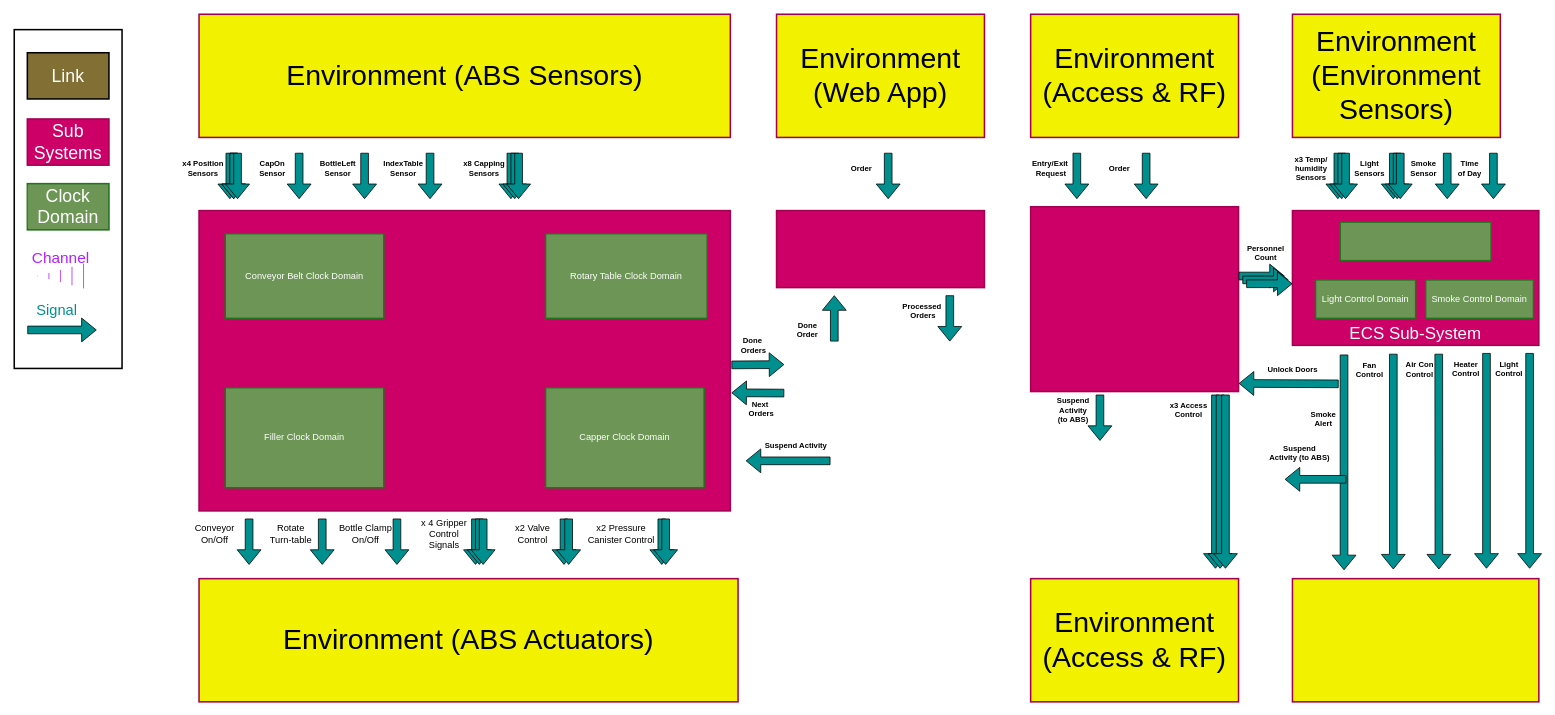
The diagram is 1555 pixels wide and 715 high, and some of its shapes have lost their labels. Here are the shapes that lost their labels. From the top down, the box of each, then its label:
(13, 28, 122, 369): Key
(775, 209, 985, 288): POS Sub-System
(1339, 221, 1491, 261): Temperature Control Domain
(1029, 206, 1239, 392): ACS Sub-System
(198, 209, 731, 511): ABS Sub-System
(1291, 578, 1539, 702): Environment (Actuators)
